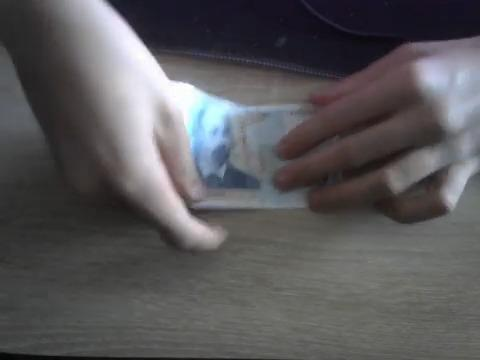20leva: (15, 1, 316, 212)
